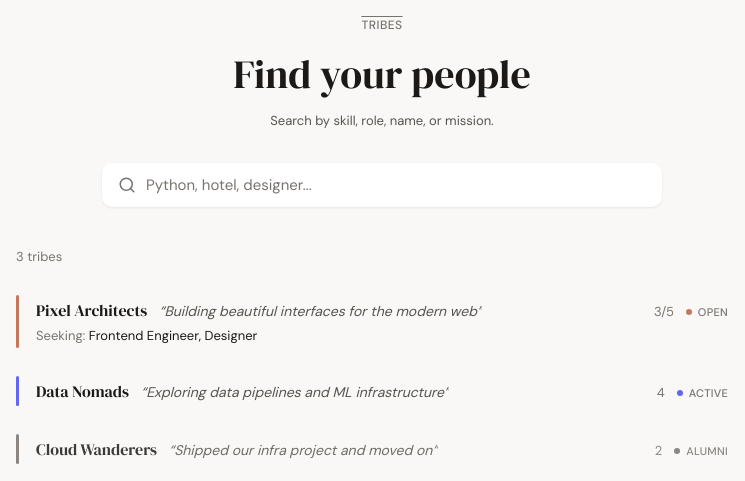
Scenario: TribesPage › shows search results with query context
Expected: the text "Pixel Architects" is shown, [36,299,147,321]
Type "pixel" into the field with placeholder "Python, hotel, designer..." at point(382, 185), box [102,163,662,207]
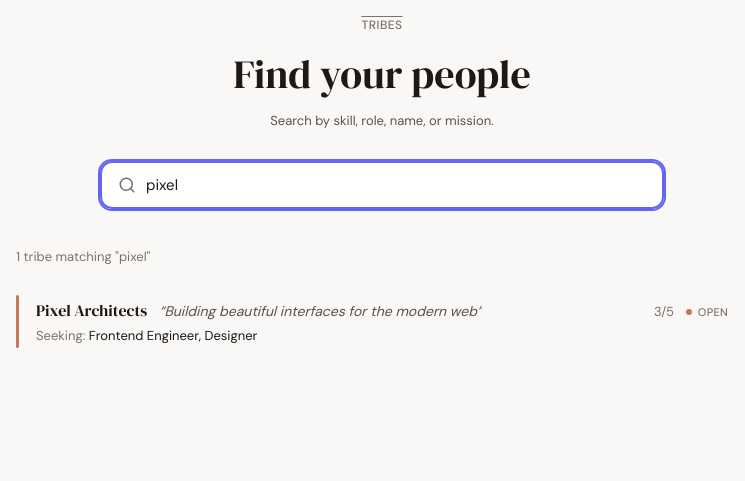
Expected: the text "1 tribe matching \"pixel\"" is shown, [16,248,150,265]
